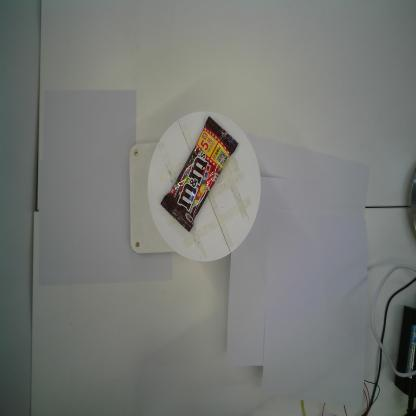Chocolate: (160, 114, 240, 235)
